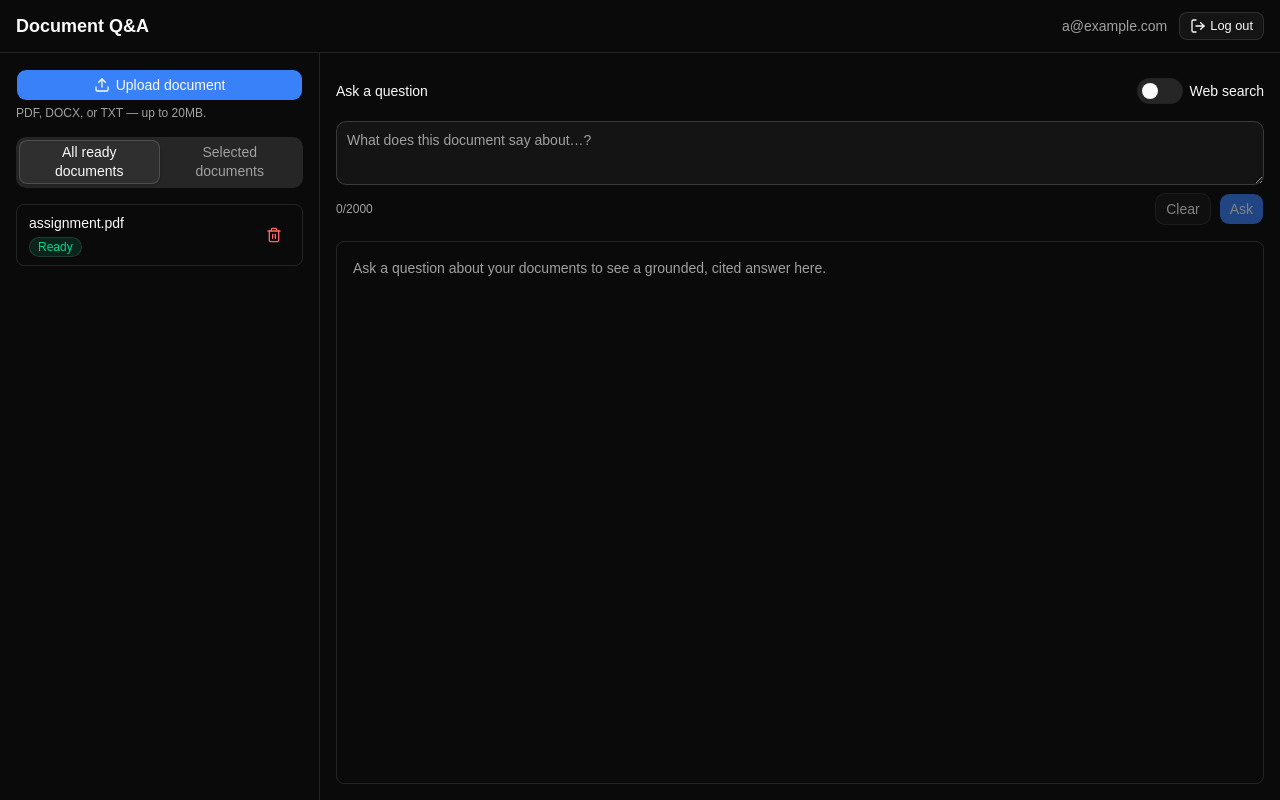
Test: WorkspacePage question + citation flow › shows an error with a retry action when the stream fails, and discards provisional text
The image size is (1280, 800).
Expected: the button "Ask" is shown, x1=1219 y1=193 x2=1264 y2=225
Type "What is the time budget?" into the text box labelled "Ask a question" at [800, 153], box x1=336 y1=121 x2=1264 y2=185
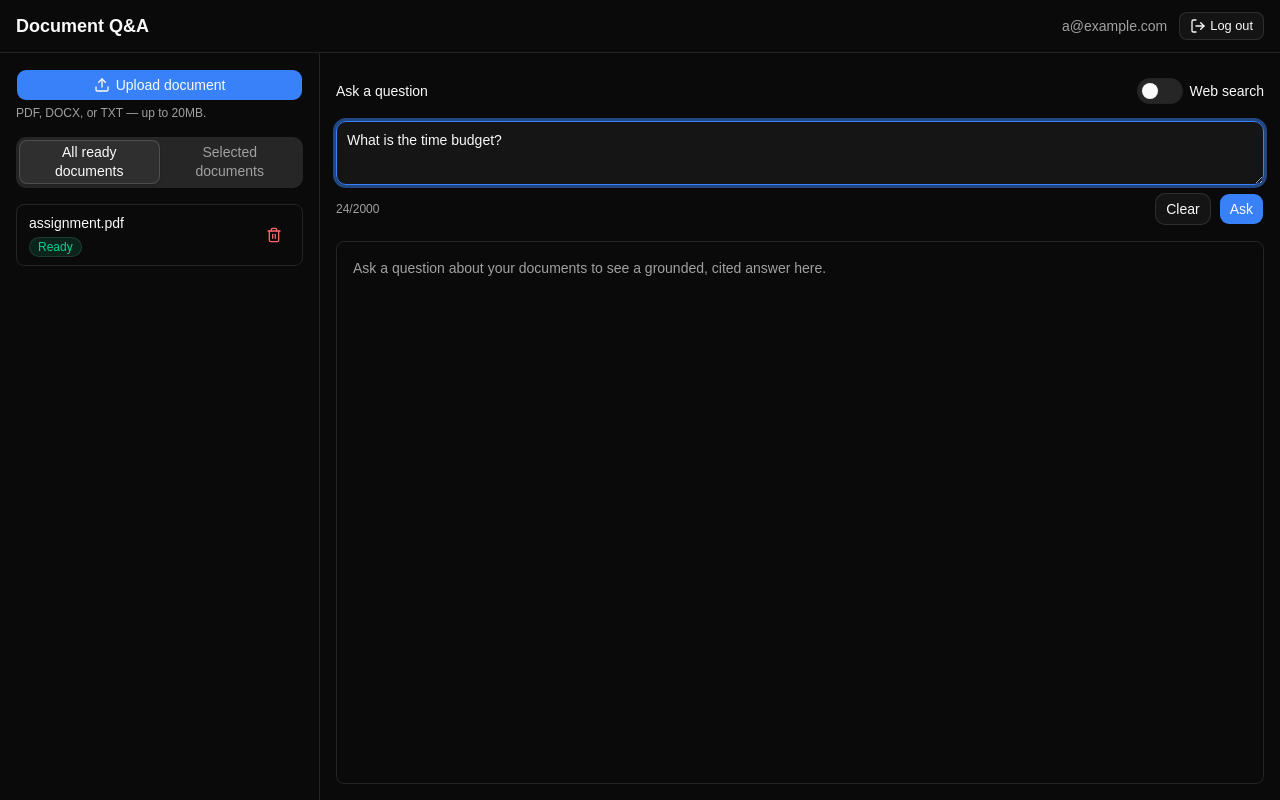
Click the button "Ask" at [1241, 209], box x1=1219 y1=193 x2=1264 y2=225
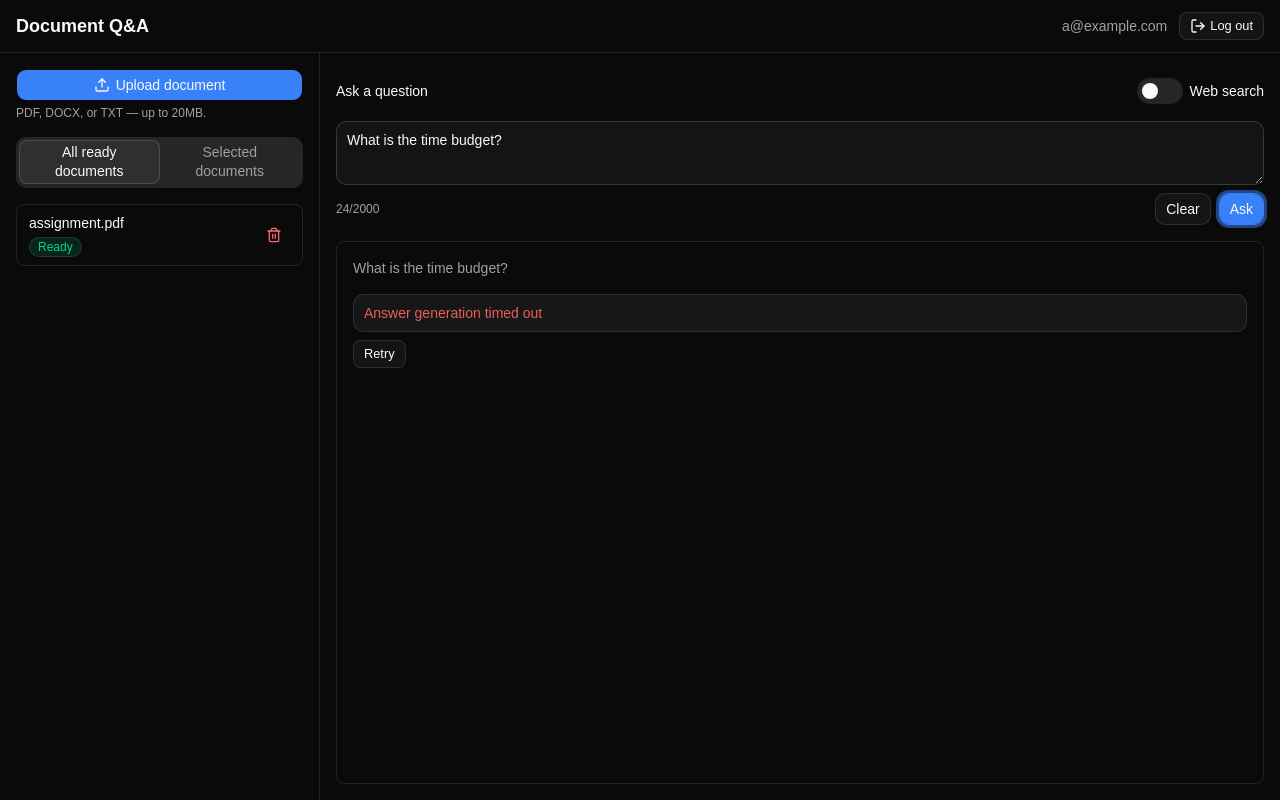
Result: the message shows "timed out" at x1=364 y1=305 x2=542 y2=321
Click the button "Retry" at [379, 354], box x1=353 y1=340 x2=406 y2=368
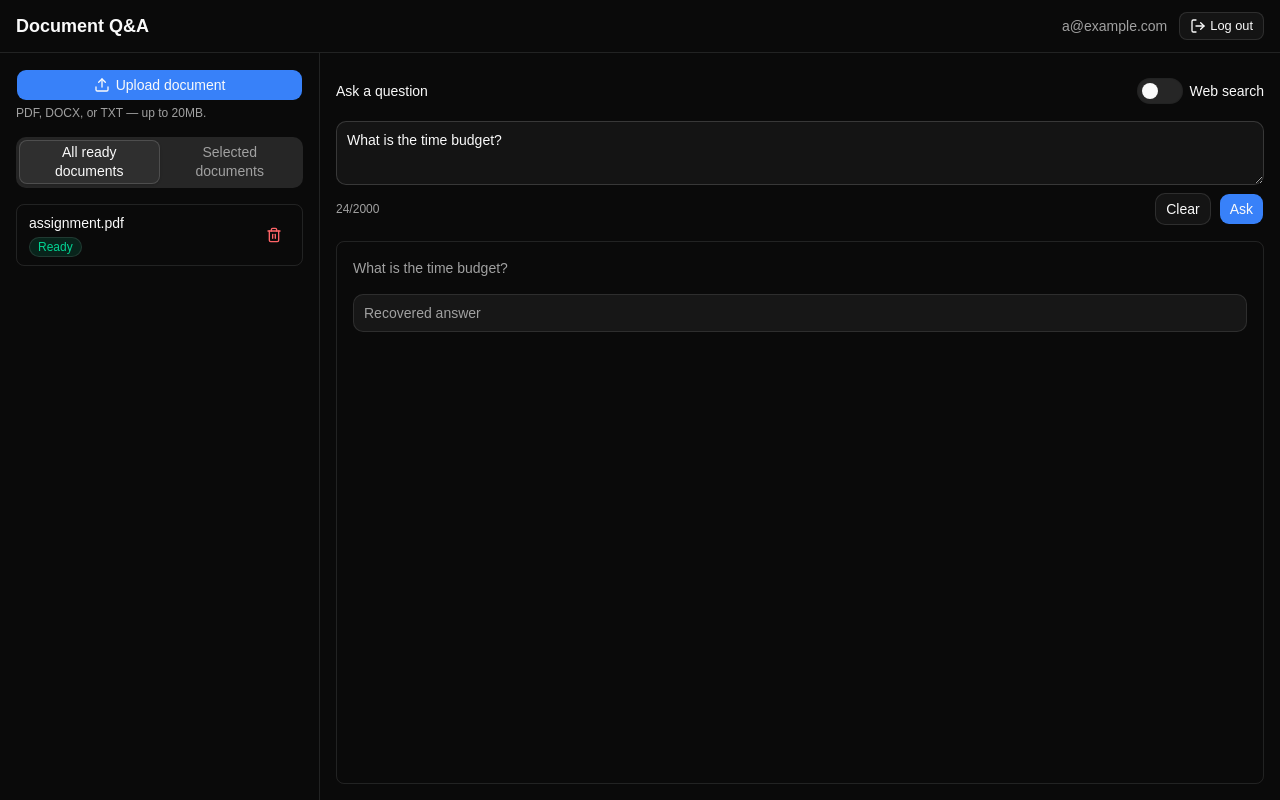
Result: the text "Recovered answer" is shown at x1=364 y1=305 x2=481 y2=321
